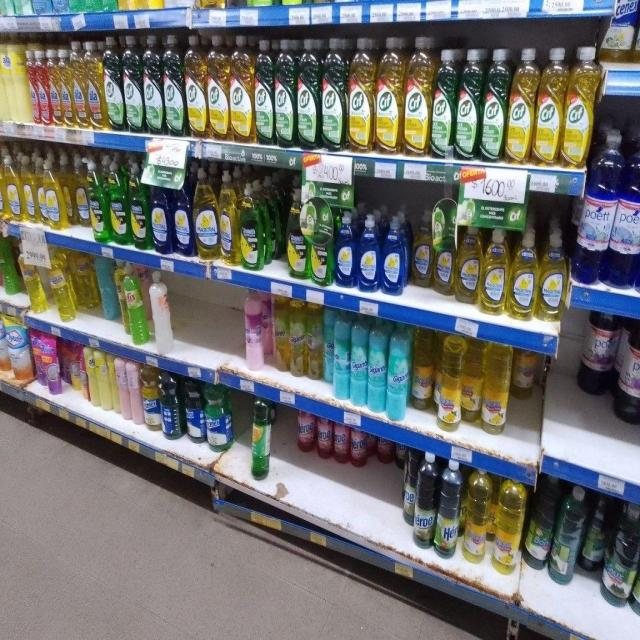ala_conc_amarillo: (86, 39, 104, 131), (73, 41, 86, 129), (60, 47, 72, 128), (48, 48, 60, 127)
ala_conc_rojo: (35, 48, 48, 126)
ala_crem_amarillo: (4, 36, 27, 123), (86, 346, 98, 408)
cif_conc_bot_amarilla: (563, 46, 594, 170), (404, 36, 431, 158), (535, 46, 562, 166), (376, 35, 402, 155), (348, 36, 374, 154), (508, 47, 534, 165), (230, 34, 253, 144), (208, 34, 229, 142), (186, 33, 207, 139)
cif_conc_botella_verde: (456, 47, 481, 162), (482, 47, 506, 163), (322, 36, 346, 151), (297, 37, 320, 150), (432, 47, 455, 159), (275, 37, 296, 148), (254, 38, 274, 146), (164, 34, 184, 136), (123, 34, 143, 133), (144, 33, 163, 135), (104, 37, 123, 132)
cif_conc_sachet_verde: (101, 0, 117, 11)
gigante: (387, 322, 410, 421)
magistral_con_amarillo: (509, 228, 538, 321), (539, 227, 567, 323), (482, 228, 508, 316), (194, 167, 218, 260), (456, 224, 481, 304), (219, 170, 238, 266), (411, 212, 433, 289), (434, 228, 455, 296), (44, 156, 61, 228), (4, 154, 20, 220), (21, 155, 36, 223), (75, 155, 88, 229), (62, 155, 74, 227), (36, 156, 45, 227)
magistral_con_azul: (382, 215, 408, 295), (172, 168, 193, 256), (150, 171, 171, 254), (358, 214, 380, 293), (335, 212, 356, 288)
